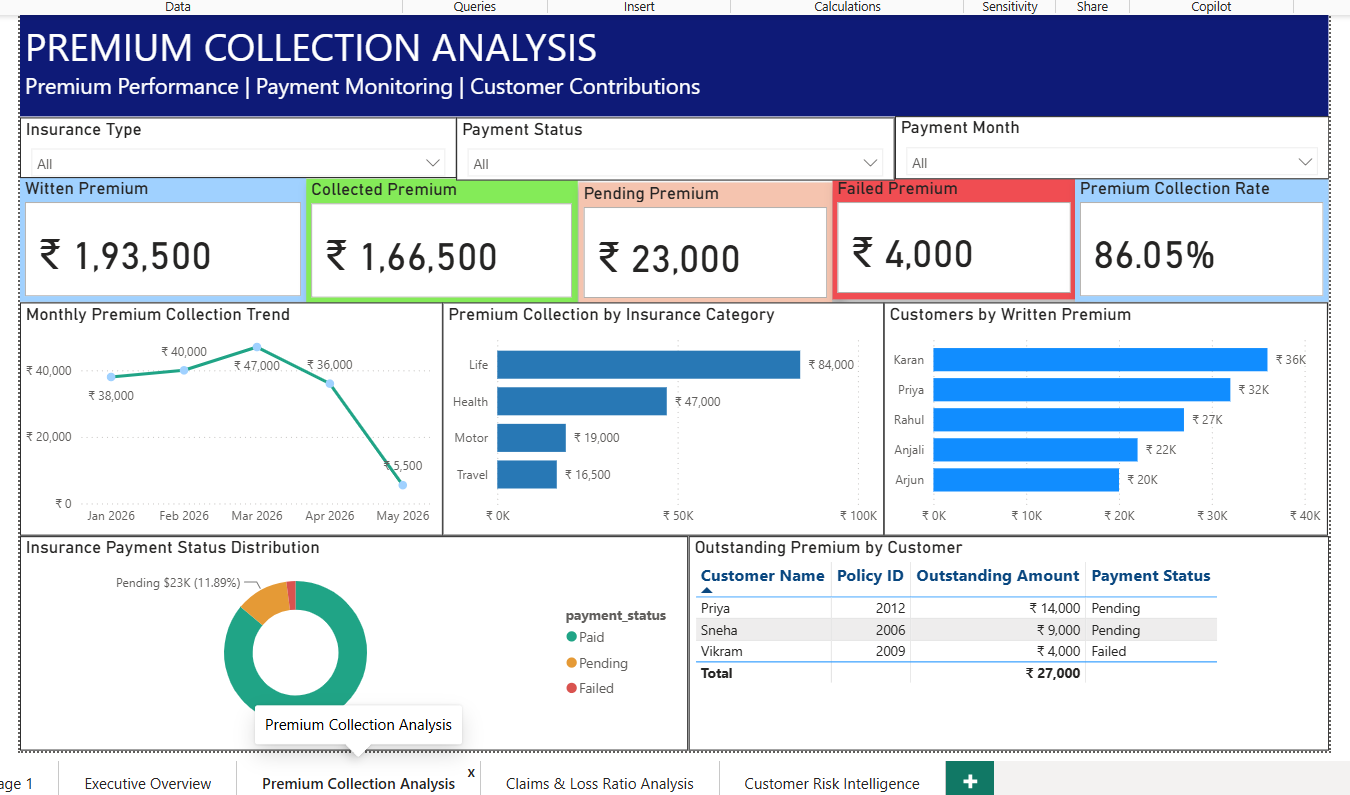

What the dashboard file says about the page in this screenshot:
{"tool":"powerbi","page":{"name":"Premium Collection Analysis","canvas":[1280,720],"ordinal":2},"visuals":[{"type":"cardVisual","title":"Witten Premium","fields":{"Data":["DimPolicy.Written Premium1"]},"box":[0,158.9,280.3,121.4],"z":0},{"type":"cardVisual","title":"Collected Premium","fields":{"Data":["Measures (2).Collected Premium"]},"box":[280.3,160.4,265.6,121.5],"z":1},{"type":"cardVisual","title":"Pending Premium","fields":{"Data":["Measures (2).Pending Premium"]},"box":[546.2,164.1,248,119],"z":2},{"type":"cardVisual","title":"Failed Premium","fields":{"Data":["FactPremiumPayments.Failed Premium"]},"box":[794.6,158.9,238,119],"z":3},{"type":"cardVisual","title":"Premium Collection Rate","fields":{"Data":["Measures (2).Premium Collection Rate"]},"box":[1032.2,159.1,248,121.5],"z":4},{"type":"lineChart","title":"Monthly Premium Collection Trend","fields":{"Category":["DimPaymentDate.MonthYear"],"Y":["Measures (2).Collected Premium"]},"box":[0,281.9,413.4,228],"z":5},{"type":"clusteredBarChart","title":"Premium Collection by Insurance Category","fields":{"Category":["DimProduct.insurance_type"],"Y":["Measures (2).Collected Premium"]},"box":[413.4,281.9,431.8,227.9],"z":6},{"type":"donutChart","title":"Insurance Payment Status Distribution","fields":{"Category":["FactPremiumPayments.payment_status"],"Y":["Sum(FactPremiumPayments.amount_paid)"]},"box":[0,509.8,653.9,209.2],"z":7},{"type":"clusteredBarChart","title":"Customers by Written Premium","fields":{"Category":["DimCustomer.customer_name"],"Y":["DimPolicy.Written Premium1"]},"box":[845.6,281.9,434.8,227.9],"z":8},{"type":"tableEx","title":"Outstanding Premium by Customer","fields":{"Values":["DimCustomer.customer_name","DimPolicy.policy_id","Sum(FactPremiumPayments.amount_paid)","FactPremiumPayments.payment_status"]},"box":[653.9,509.8,626.3,209.2],"z":9},{"type":"textbox","box":[0,0,1280.3,98.9],"z":10},{"type":"slicer","title":"Insurance Type","fields":{"Values":["DimProduct.insurance_type"]},"box":[0,100.2,427.2,58.9],"z":11},{"type":"slicer","title":"Payment Status","fields":{"Values":["FactPremiumPayments.payment_status"]},"box":[427.2,100.2,428.4,61.4],"z":12},{"type":"slicer","title":"Payment Month","fields":{"Values":["DimPaymentDate.MonthYear"]},"box":[855.6,99,424.7,61.4],"z":13}]}

Visuals, with their boxes on the page's 1280x720 design canvas (x1, y1, x2, y2). These are canvas units, not pixel positions in the 1350x795 screenshot, which may show the page scaled, cropped or inside an application window:
"Witten Premium" cardVisual: box(0, 159, 280, 280)
"Collected Premium" cardVisual: box(280, 160, 546, 282)
"Pending Premium" cardVisual: box(546, 164, 794, 283)
"Failed Premium" cardVisual: box(795, 159, 1033, 278)
"Premium Collection Rate" cardVisual: box(1032, 159, 1280, 281)
"Monthly Premium Collection Trend" lineChart: box(0, 282, 413, 510)
"Premium Collection by Insurance Category" clusteredBarChart: box(413, 282, 845, 510)
"Insurance Payment Status Distribution" donutChart: box(0, 510, 654, 719)
"Customers by Written Premium" clusteredBarChart: box(846, 282, 1280, 510)
"Outstanding Premium by Customer" tableEx: box(654, 510, 1280, 719)
textbox: box(0, 0, 1280, 99)
"Insurance Type" slicer: box(0, 100, 427, 159)
"Payment Status" slicer: box(427, 100, 856, 162)
"Payment Month" slicer: box(856, 99, 1280, 160)
